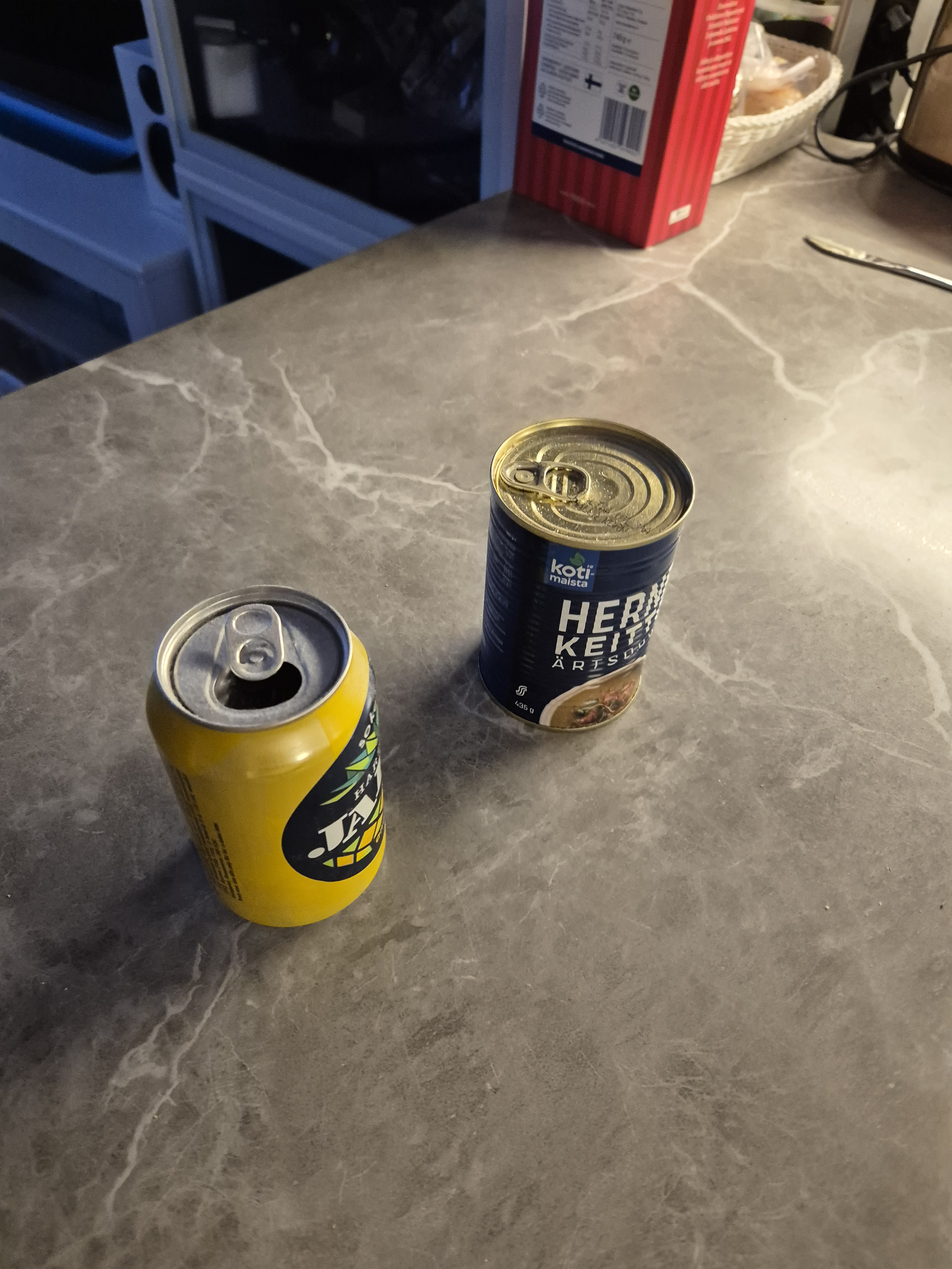Konservburk: (475, 414, 697, 736)
Pantburk: (143, 582, 389, 930)
